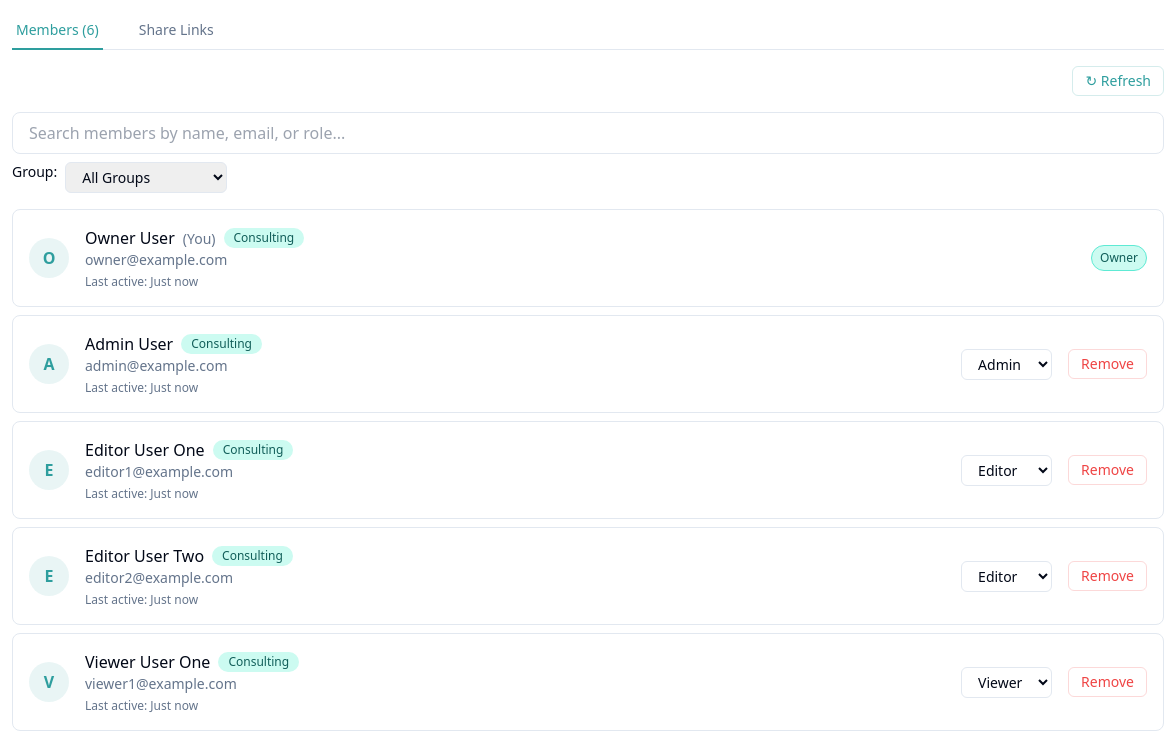
Test case: ProjectMembersPanel › should filter members by search term
The width and height of the screenshot is (1176, 732).
Expected: the heading "Owner User(You)" is shown, [85,226,216,250]
In the field with placeholder "Search members by name, email, or role...": (588, 133) [12,112,1164,154], type "editor"
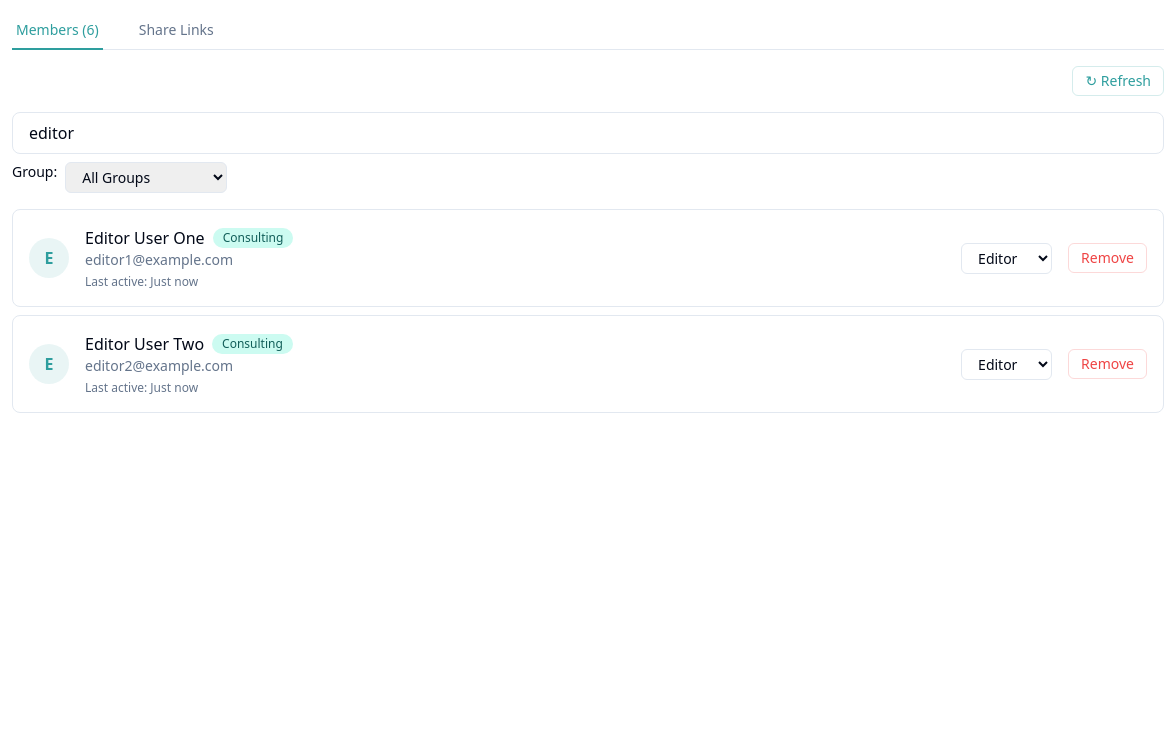
Expected: the heading "Editor User One" is shown, [85,226,205,250]
Expected: the heading "Owner User" is gone
